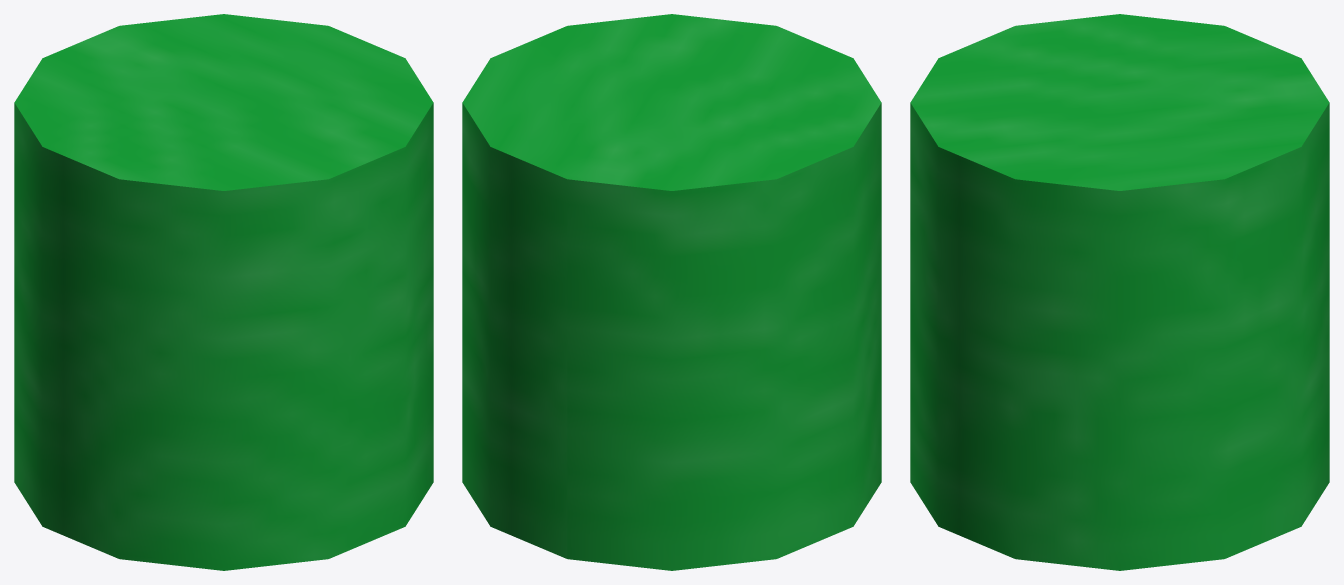
File: CILINDEr.fbx
The picture shows the model from 3 angles, left to right: view 1: azimuth 30°, elevation 25°; view 2: azimuth 150°, elevation 25°; view 3: azimuth 270°, elevation 25°; orthographic projection.
Parts seen in each view (by area): view 1: CILINDEr; view 2: CILINDEr; view 3: CILINDEr.
Part boxes in pixels (x1=…): CILINDEr: x1=14, y1=14, x2=433, y2=570; CILINDEr: x1=462, y1=14, x2=881, y2=570; CILINDEr: x1=910, y1=14, x2=1329, y2=570.
Bounding box in the file's own units: 100 × 100 × 100.
